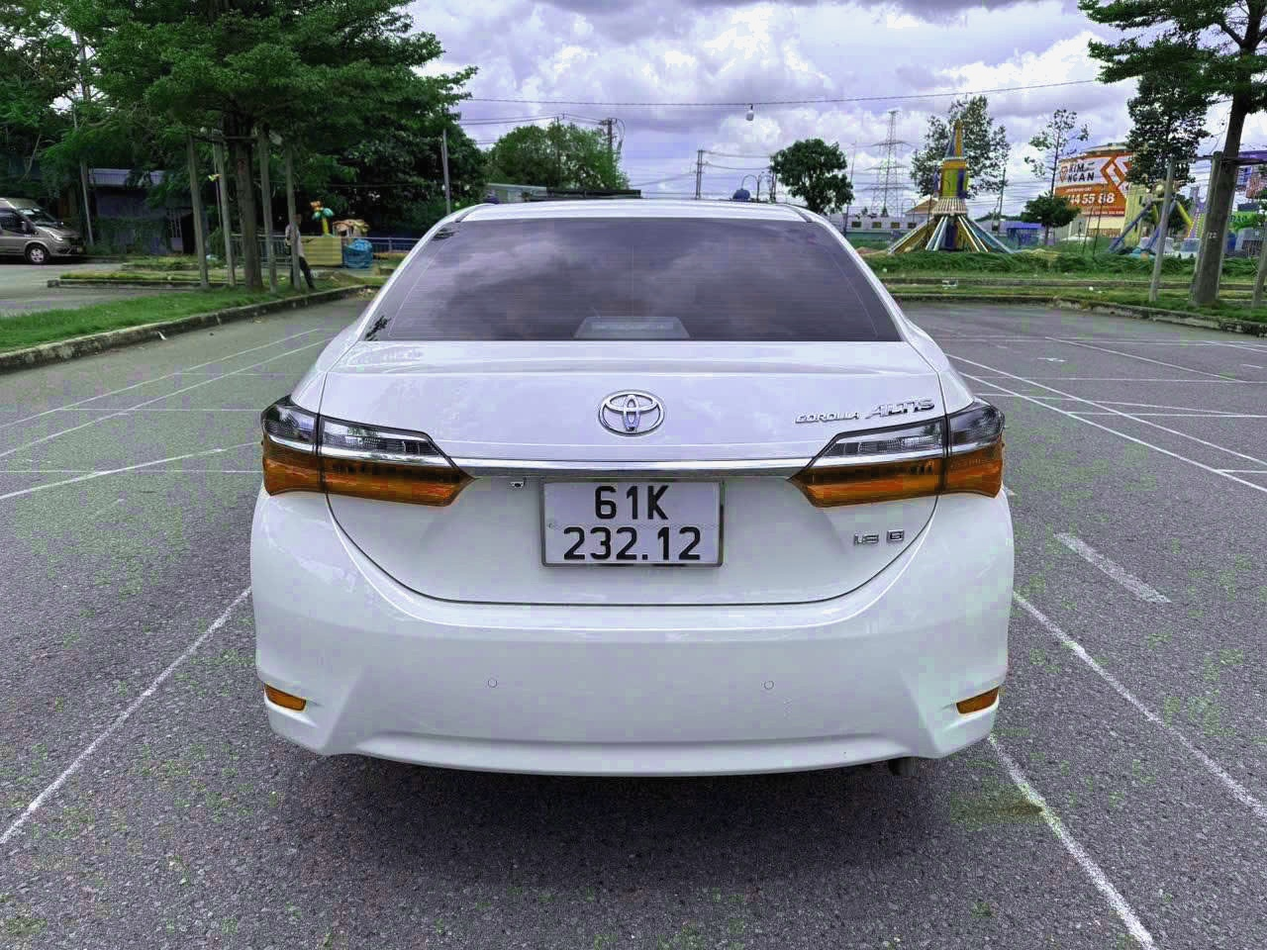Bien-so: (553, 459, 744, 567)
